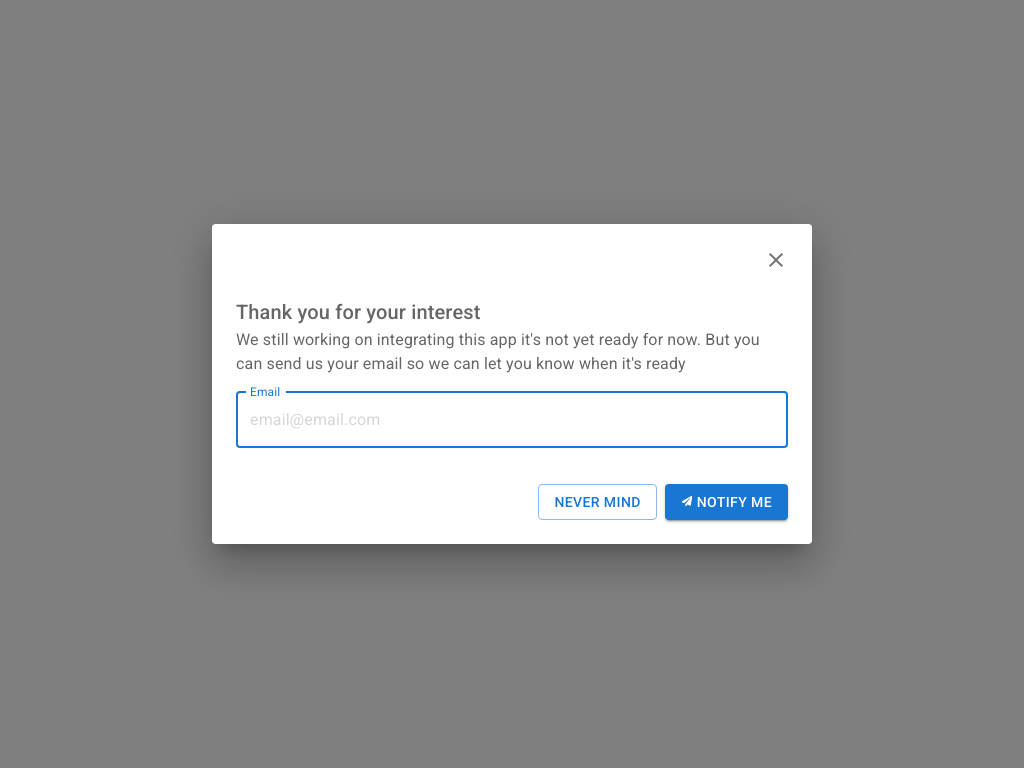
Test: NotifyMeDialog › should not allow submit notify when email empty or invalid
expect the text "Invalid email address" is not shown: met
Type "wrong.email" into the field labelled "Email" at (512, 420), box x1=236 y1=392 x2=788 y2=448
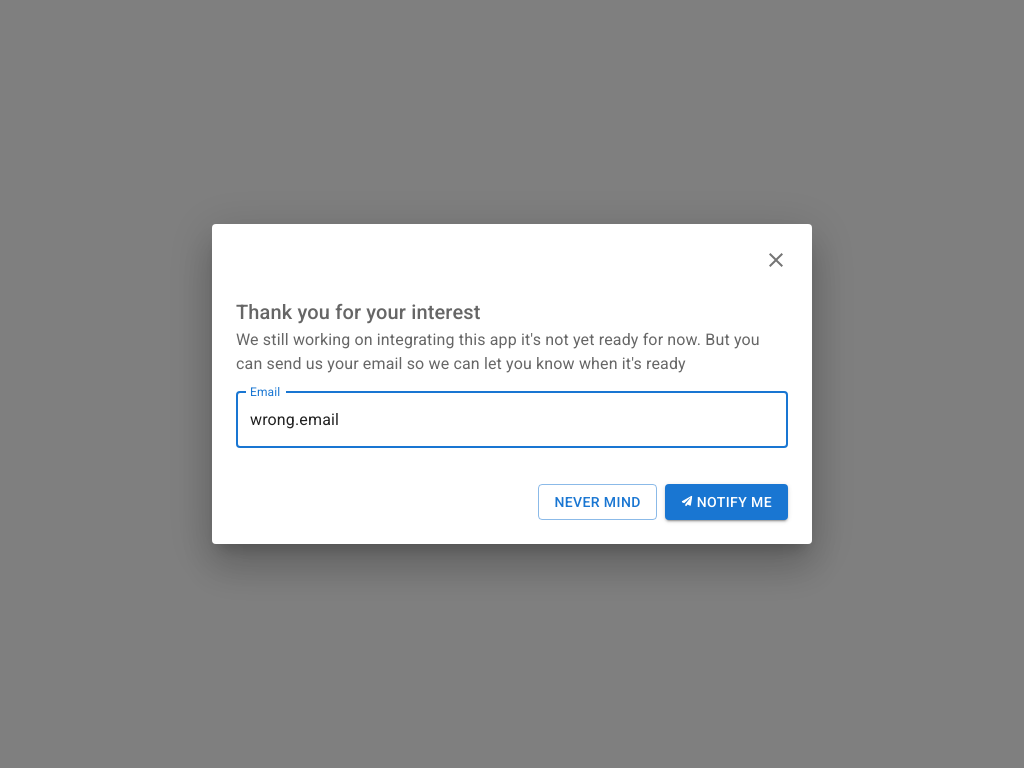
Click the button "Notify me" at (726, 502), box x1=665 y1=484 x2=788 y2=520
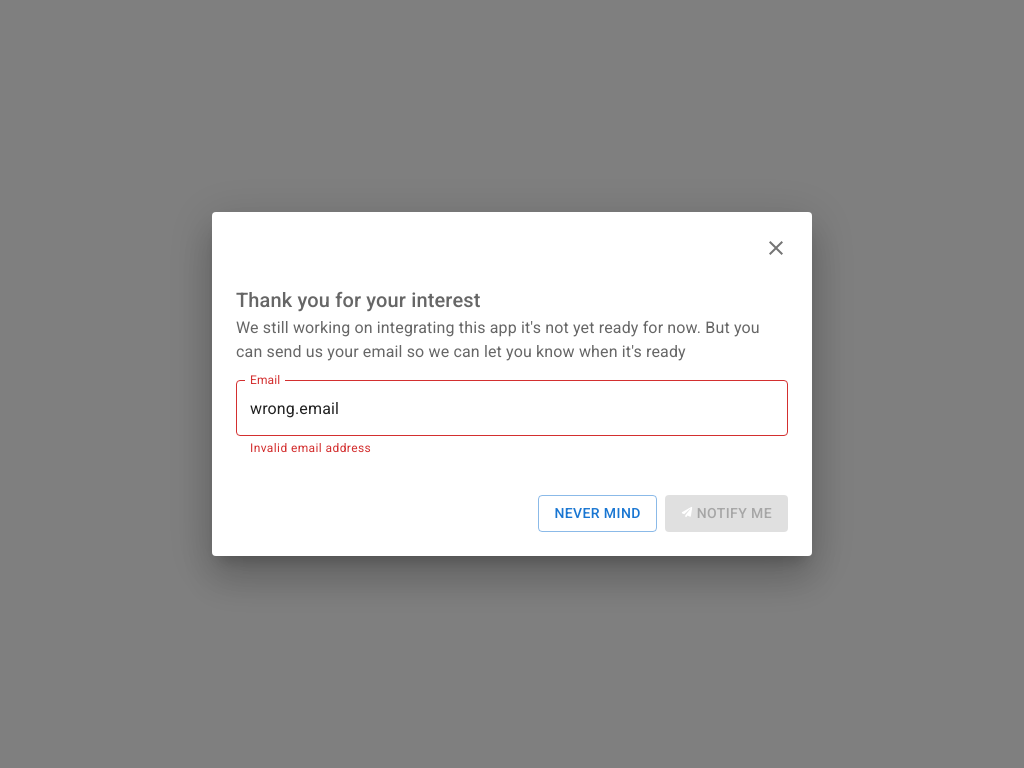
expect the text "Invalid email address" is shown: met, box x1=250 y1=441 x2=371 y2=455
expect the button "Notify me" is disabled: met, box x1=665 y1=495 x2=788 y2=532
